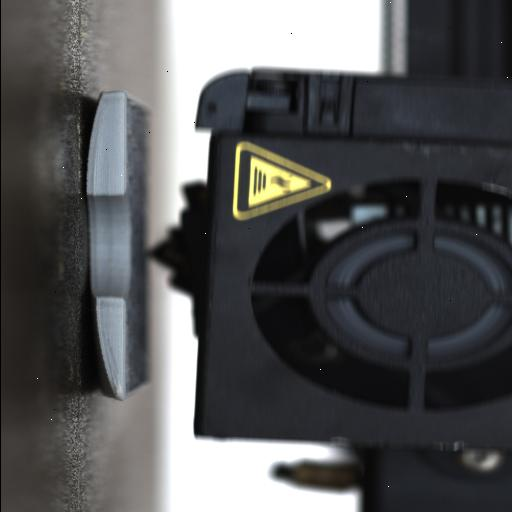warp: (82, 297, 124, 401), (79, 90, 113, 168)
